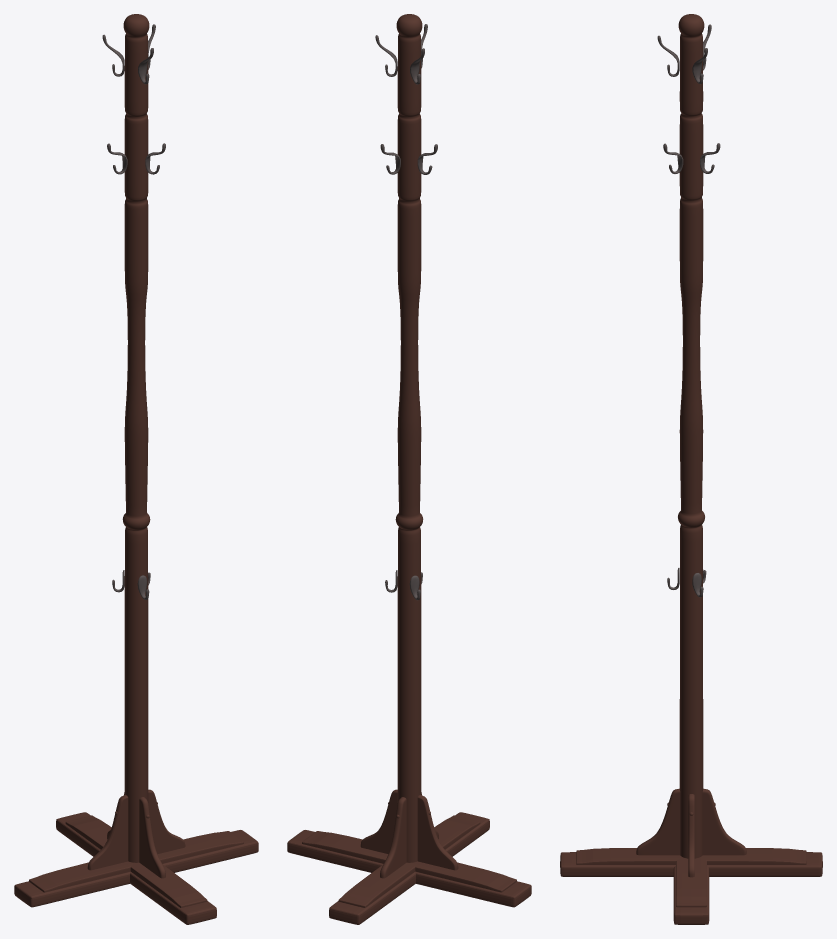
The model's file is Furniture_CoatRack.fbx.
3 renders of one model, left to right at view 1: azimuth 30°, elevation 25°; view 2: azimuth 150°, elevation 25°; view 3: azimuth 270°, elevation 25°, orthographic.
Visible parts, largest first — view 1: Cube.028; view 2: Cube.028; view 3: Cube.028.
Boxes of the visible parts, x1,y1,x2,y2 form: Cube.028: (14, 14, 258, 924); Cube.028: (287, 14, 531, 924); Cube.028: (560, 14, 822, 924).
Size of the model in its own units: 47.43 by 170 by 47.43.
